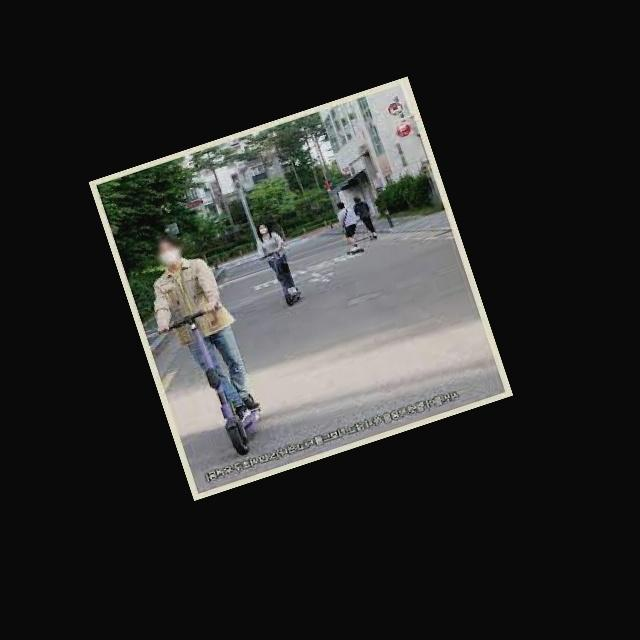bare_head: (148, 232, 194, 272), (247, 219, 276, 237)
human: (145, 241, 236, 415), (250, 218, 307, 288)
kickboard: (210, 416, 290, 453), (276, 291, 319, 313)
